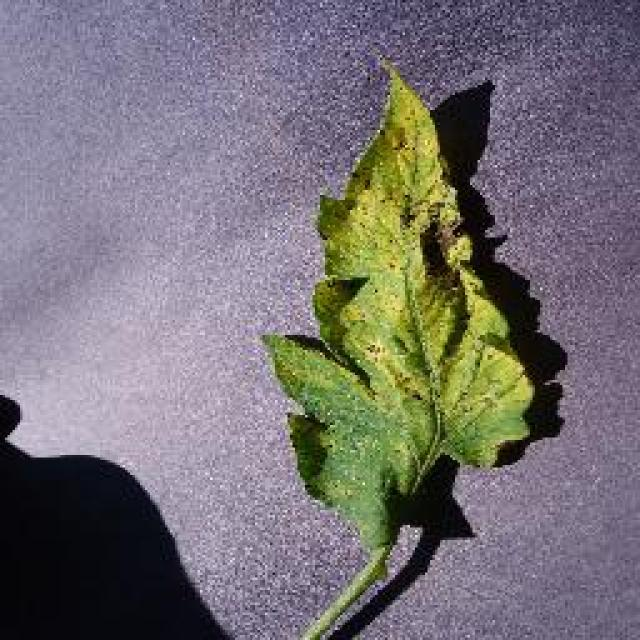Tomato___Septoria_leaf_spot: (262, 62, 532, 638)
